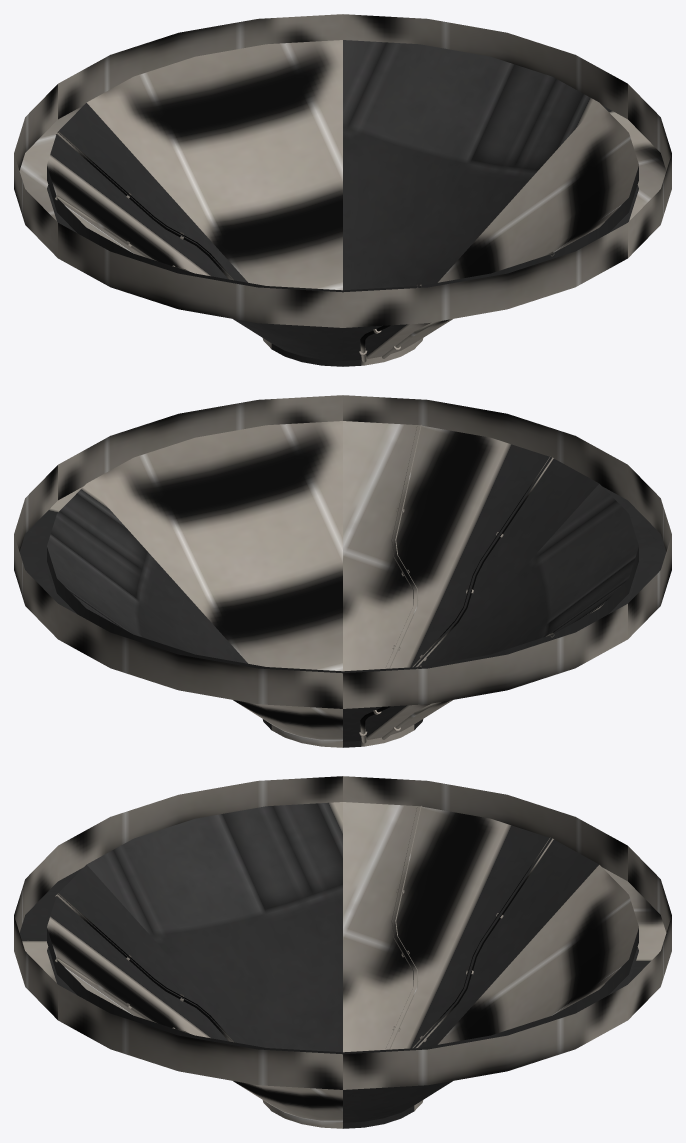
The model's file is stage3mount.fbx.
3 views of the same model, one above another, from view 1: azimuth 30°, elevation 25°; view 2: azimuth 150°, elevation 25°; view 3: azimuth 270°, elevation 25° (orthographic).
Parts seen in each view (by area): view 1: mesh; view 2: mesh; view 3: mesh.
Part boxes in pixels (bbox=[...]): mesh: bbox=[14, 14, 671, 366]; mesh: bbox=[14, 395, 671, 747]; mesh: bbox=[14, 776, 671, 1128].
Bounding box in the file's own units: 2.5 × 0.75 × 2.5.
